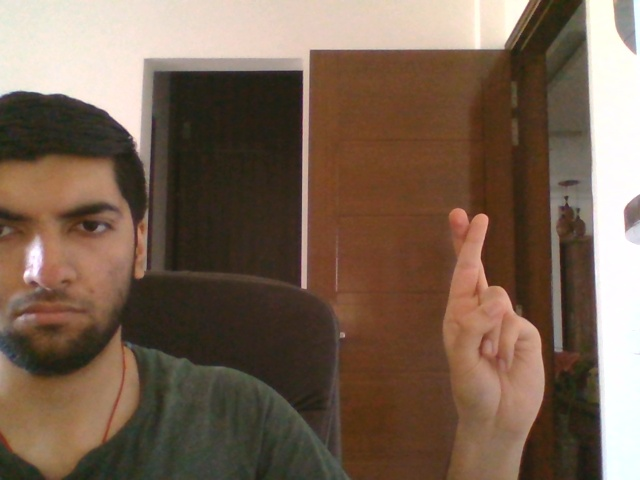LetterR: (440, 204, 548, 436)
